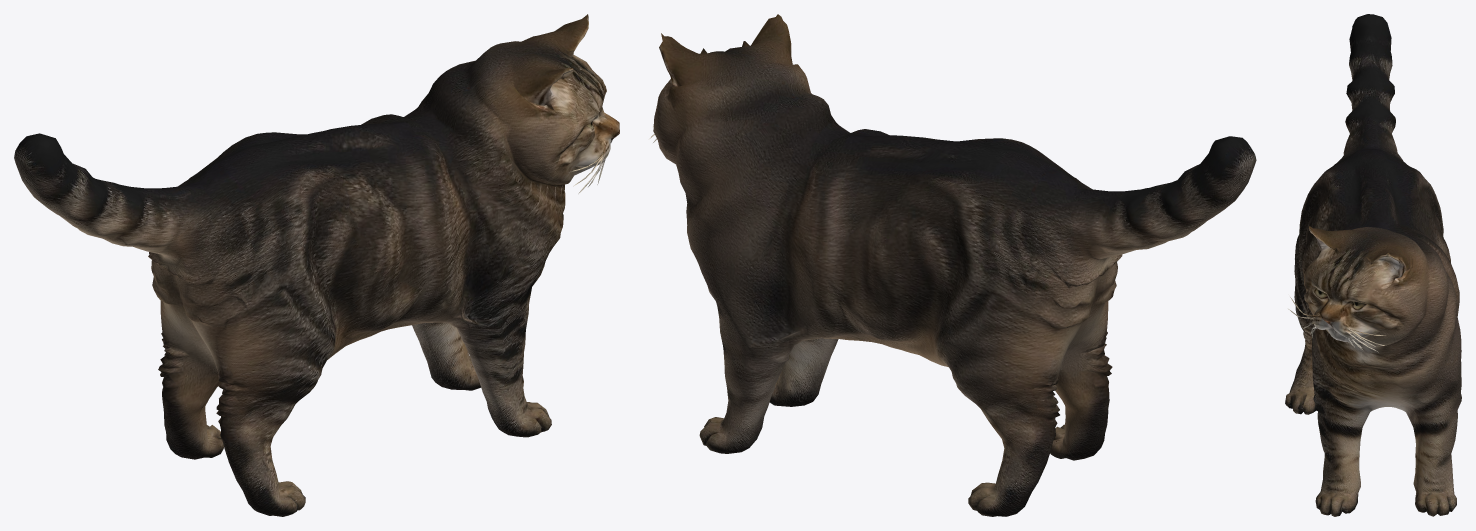
Rendered from TSUSAN.glb.
3 renders of one model, left to right at view 1: azimuth 30°, elevation 25°; view 2: azimuth 150°, elevation 25°; view 3: azimuth 270°, elevation 25°, orthographic. The views are drawn at different scales.
Visible parts, largest first — view 1: tripo_node_b61202dc-c65d-477c-a69f-c833b29e7afd; view 2: tripo_node_b61202dc-c65d-477c-a69f-c833b29e7afd; view 3: tripo_node_b61202dc-c65d-477c-a69f-c833b29e7afd.
Boxes of the visible parts, x1,y1,x2,y2 form: tripo_node_b61202dc-c65d-477c-a69f-c833b29e7afd: (14, 14, 619, 516); tripo_node_b61202dc-c65d-477c-a69f-c833b29e7afd: (649, 14, 1256, 516); tripo_node_b61202dc-c65d-477c-a69f-c833b29e7afd: (1285, 14, 1461, 516).
Size of the model in its own units: 1.58 by 1 by 0.5072.
1 material, 1 textured.
